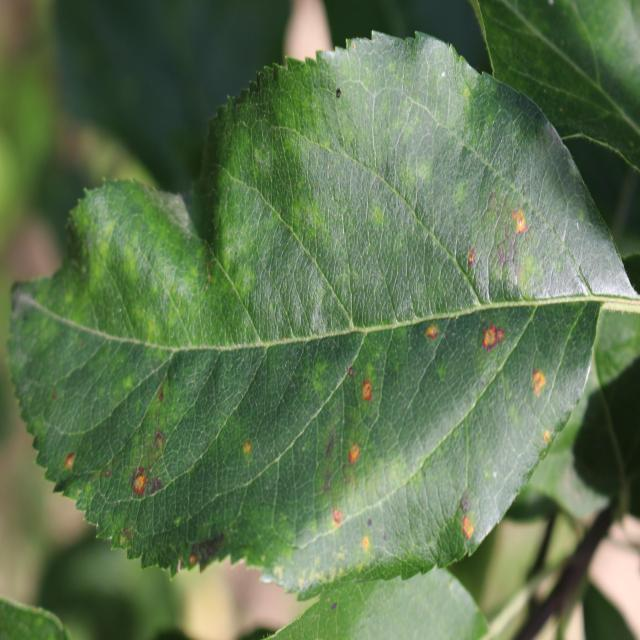Rust: (525, 355, 557, 419), (447, 504, 485, 557), (131, 462, 171, 506), (476, 319, 513, 362), (416, 306, 444, 357), (352, 376, 387, 413), (506, 206, 536, 249), (322, 502, 354, 540), (56, 443, 83, 481), (345, 428, 365, 475), (462, 241, 481, 283), (356, 532, 373, 567), (240, 436, 256, 470)
